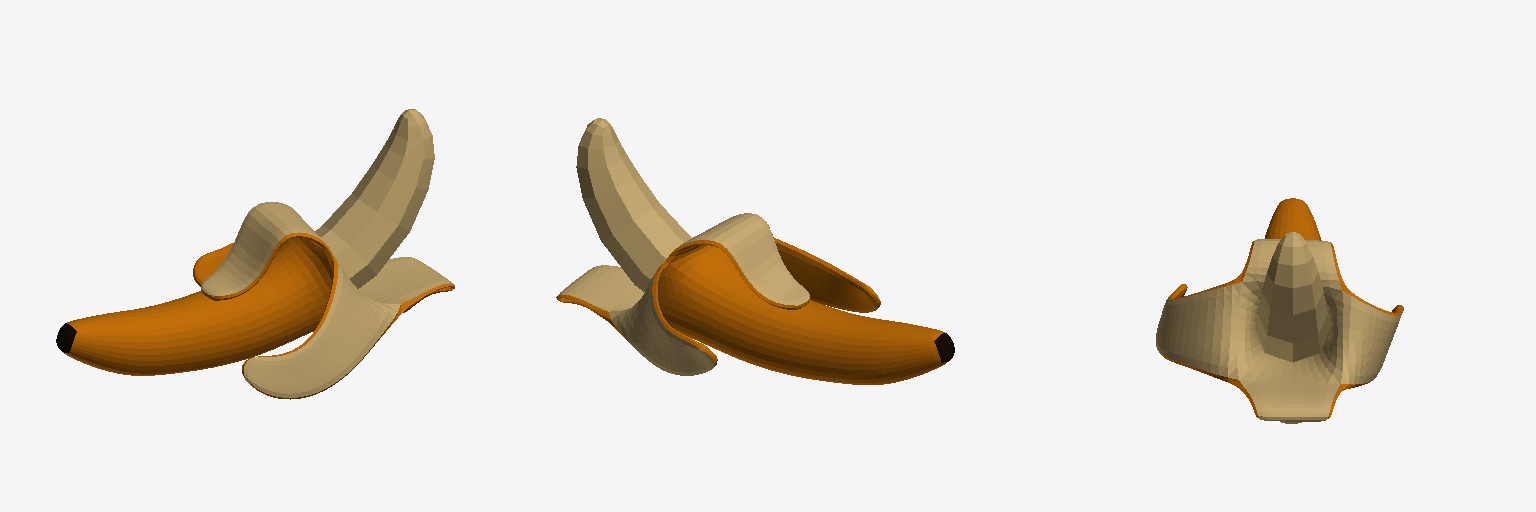
File: banana.obj
The picture shows the model from 3 angles: view 1: azimuth 30°, elevation 25°; view 2: azimuth 150°, elevation 25°; view 3: azimuth 270°, elevation 25°; orthographic projection.
Visible parts, largest first — view 1: banana_peeled.001_Cube.007; view 2: banana_peeled.001_Cube.007; view 3: banana_peeled.001_Cube.007.
Part boxes in pixels (x1,y1,x2,y2): banana_peeled.001_Cube.007: (56, 109, 454, 399); banana_peeled.001_Cube.007: (556, 118, 954, 384); banana_peeled.001_Cube.007: (1156, 198, 1403, 423).
Size of the model in its own units: 8.65 by 4.45 by 4.89.